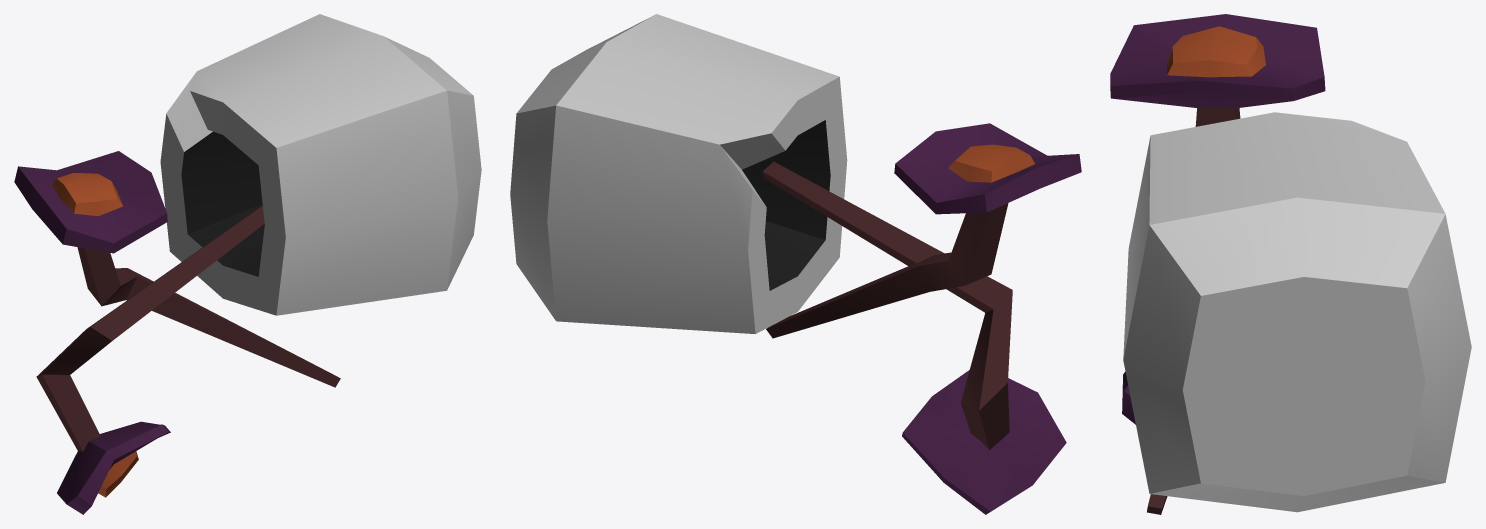
Rendered from Vase 03.FBX.
3 views of the same model, side by side, from view 1: azimuth 30°, elevation 25°; view 2: azimuth 150°, elevation 25°; view 3: azimuth 270°, elevation 25° (orthographic). The views are drawn at different scales.
Visible parts, largest first — view 1: Vase 03; view 2: Vase 03; view 3: Vase 03.
Part boxes in pixels (left/top/right/bottom): Vase 03: left=14, top=14, right=481, bottom=514; Vase 03: left=510, top=14, right=1081, bottom=514; Vase 03: left=1110, top=14, right=1471, bottom=514.
Bounding box in the file's own units: 52.82 × 43.03 × 28.23.
